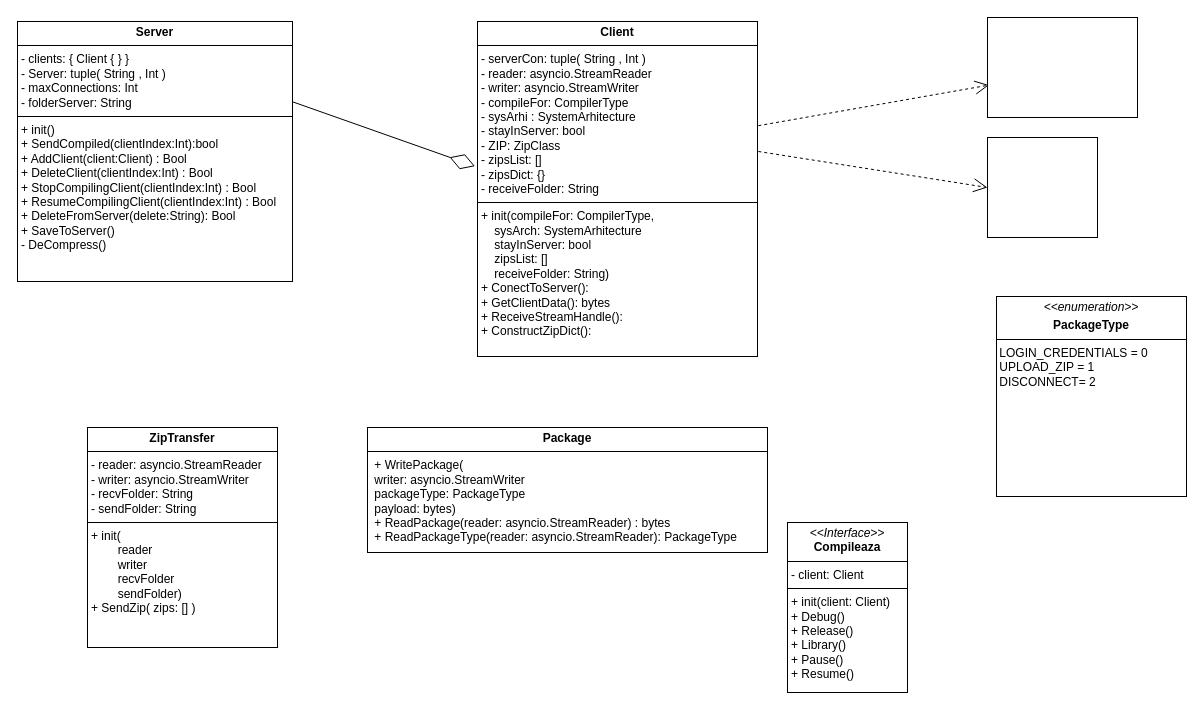
This 1204x710 diagram has some shape labels left out. The shapes that lost their labels are listed below. From the top down, each one's centre as x and y in pixels, then its label:
the point at 1062,67: <<enumeration>> SystemArhitecture x86_64 arm64 aarch_64
the point at 1042,187: <<enumeration>> CompilerType RELEASE DEBUG LIBRARY
